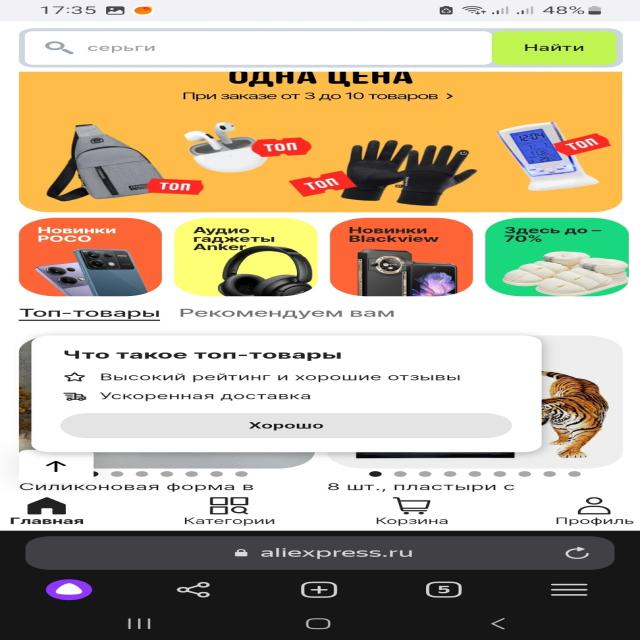button: (64, 414, 514, 438)
site: (33, 337, 544, 451)
